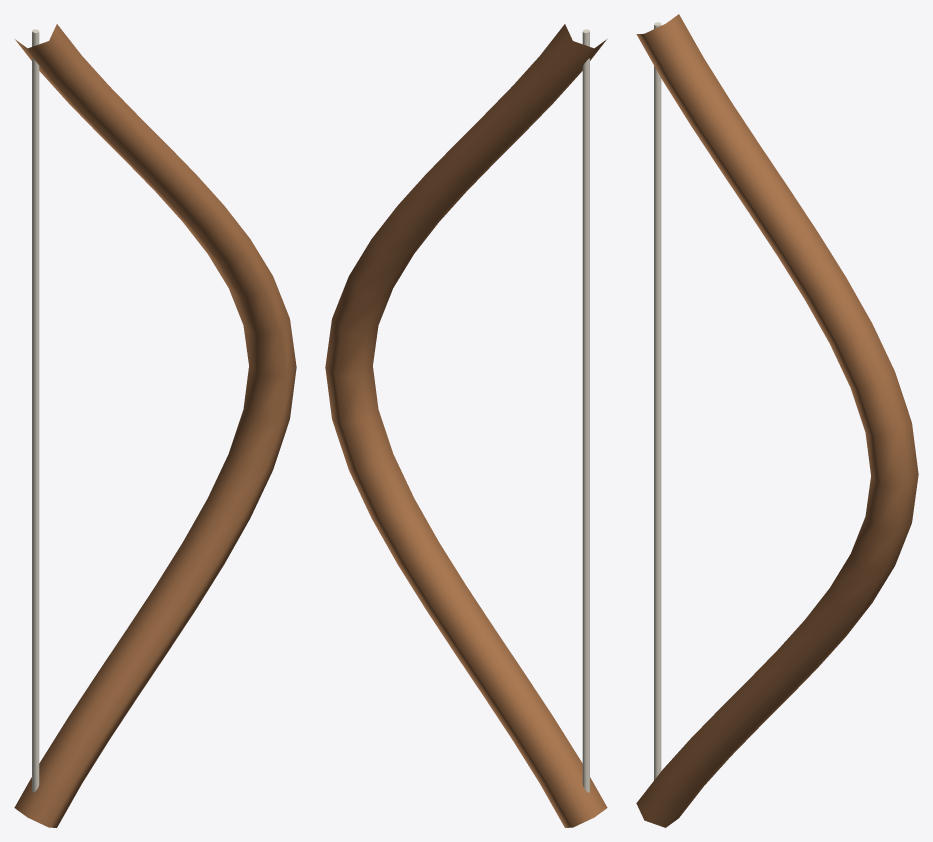
File: wp-arc-de-bois.glb
3 renders of one model, left to right at view 1: azimuth 30°, elevation 25°; view 2: azimuth 150°, elevation 25°; view 3: azimuth 330°, elevation 25°, orthographic.
Visible parts, largest first — view 1: wp-arc-de-bois; view 2: wp-arc-de-bois; view 3: wp-arc-de-bois.
Part boxes in pixels (<box>): wp-arc-de-bois: <box>14,24,296,827</box>; wp-arc-de-bois: <box>325,24,607,827</box>; wp-arc-de-bois: <box>636,14,918,827</box>.
Size of the model in its own units: 0.35 by 1 by 0.06.
